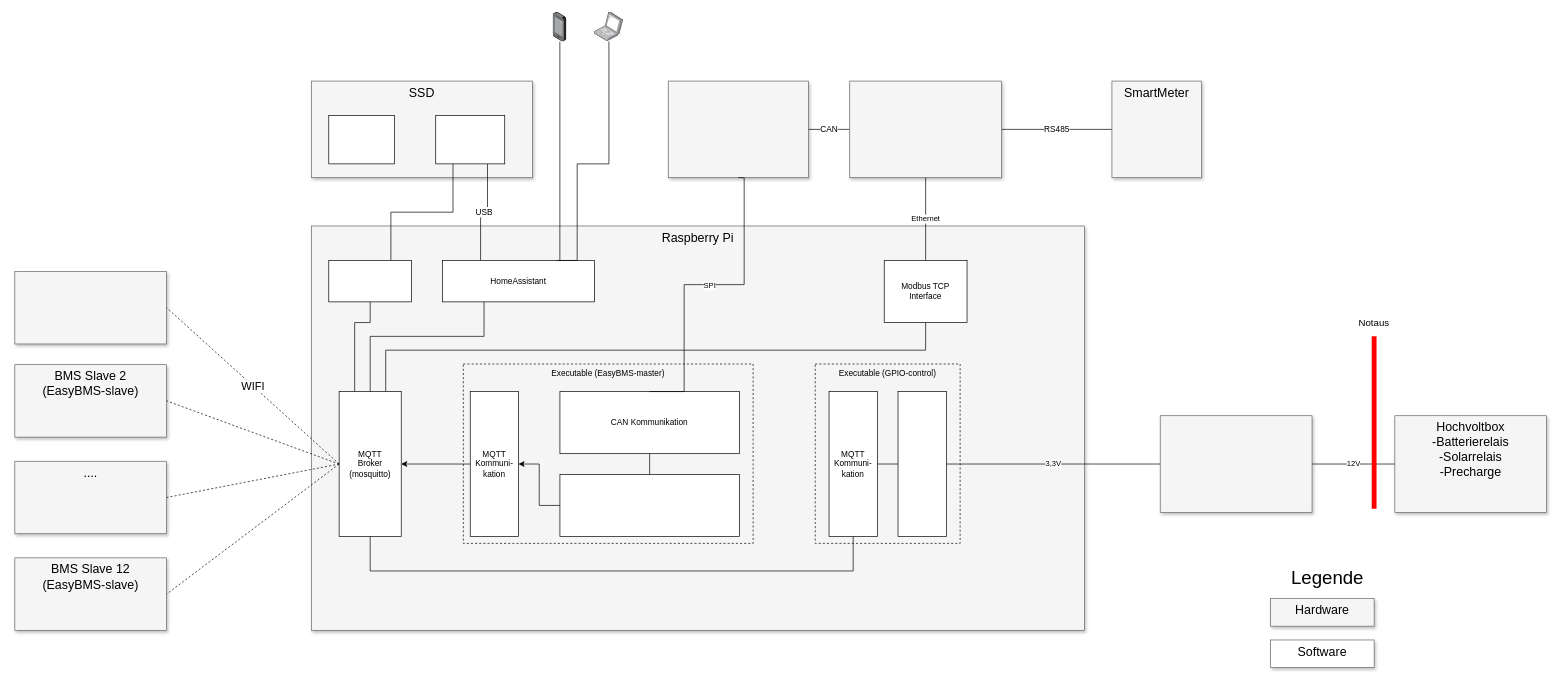
The diagram is 1563 pixels wide and 684 high, and some of its shapes have lost their labels. The centre of each missing label's shape, as x and y in pixels:
"Alghorithus" belongs at [649,505].
"BMS Slave 1 (EasyBMS-slave)" belongs at [91,308].
"CAN Shield" belongs at [738,130].
"EconomizerLT 4Ch" belongs at [1236,464].
"GPIO Control" belongs at [921,463].
"MariaDB" belongs at [470,139].
"Monitoring" belongs at [370,281].
"txt , csv" belongs at [361,139].
"Wechselrichter" belongs at [926,130].
